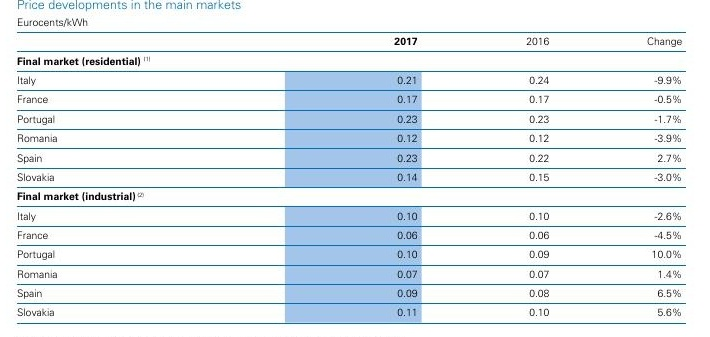table: (0, 0, 710, 337)
